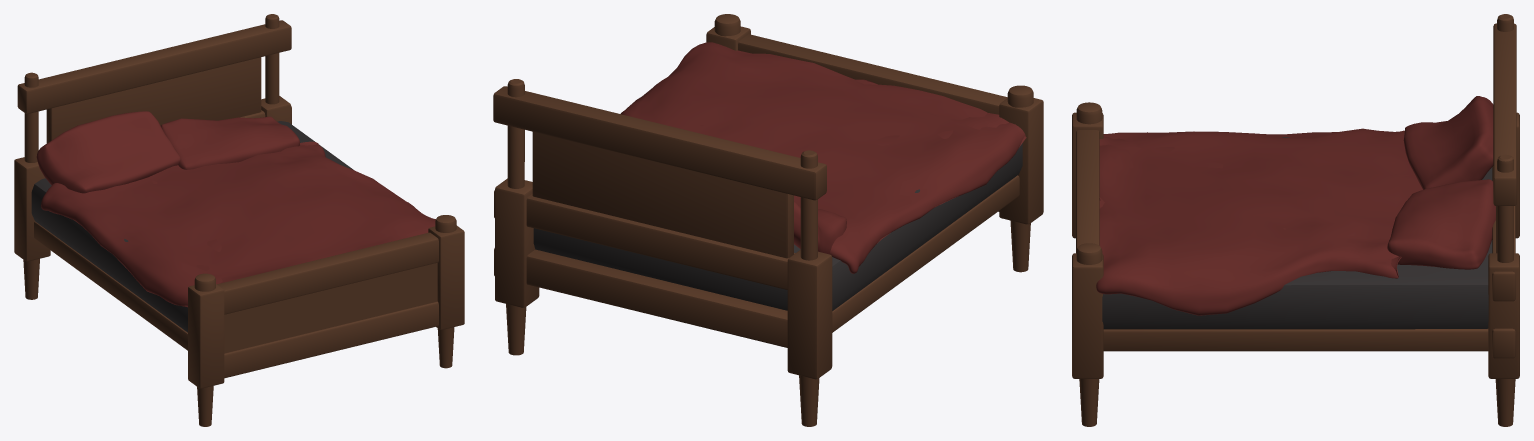
File: messy_bed_low_poly.glb
The picture shows the model from 3 angles, left to right: view 1: azimuth 30°, elevation 25°; view 2: azimuth 150°, elevation 25°; view 3: azimuth 270°, elevation 25°; orthographic projection. The views are drawn at different scales.
Visible parts, largest first — view 1: Bed; view 2: Bed; view 3: Bed.
Boxes of the visible parts, x1,y1,x2,y2 form: Bed: [14, 14, 464, 426]; Bed: [493, 14, 1043, 426]; Bed: [1072, 14, 1519, 426].
Size of the model in its own units: 2.18 by 1.67 by 2.53.
